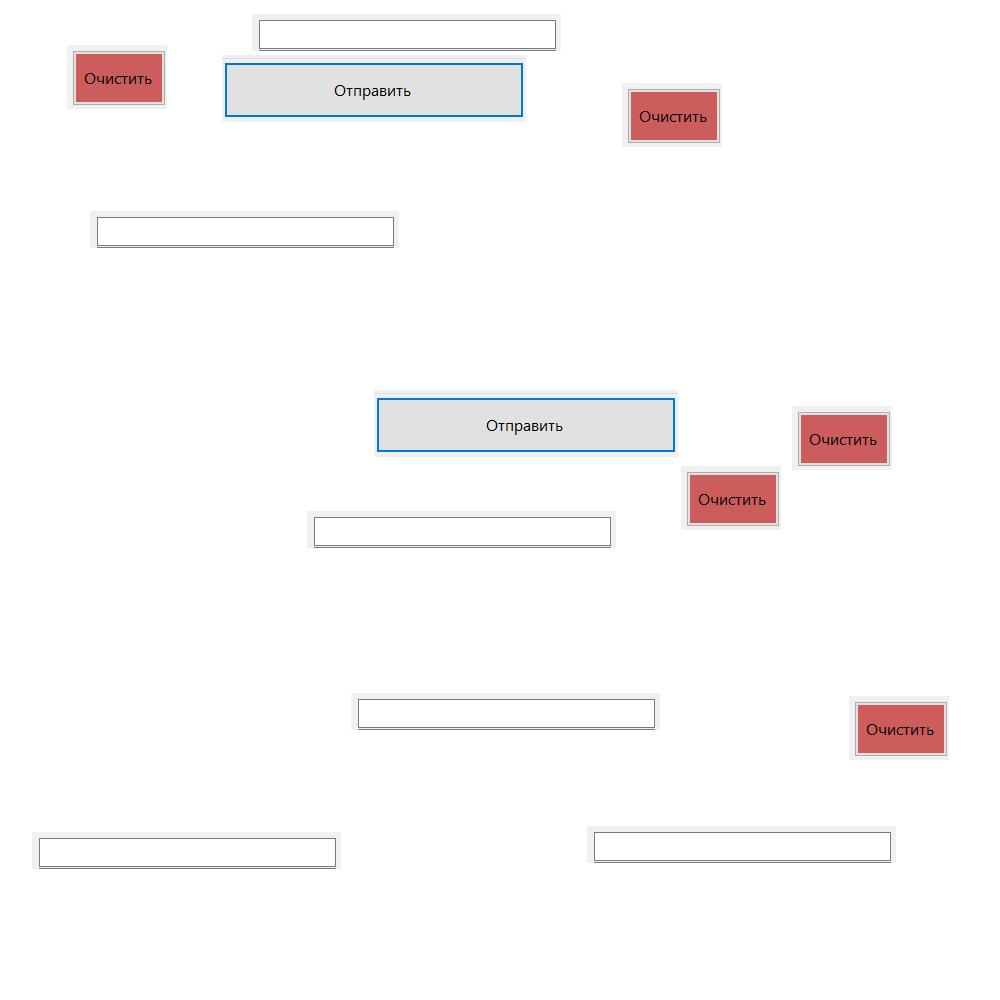Button: (222, 55, 526, 122), (374, 390, 678, 457), (792, 406, 892, 470), (849, 696, 949, 760), (622, 83, 722, 147), (67, 45, 167, 109), (681, 466, 781, 530)
EditText-: (587, 826, 896, 863), (90, 211, 399, 248), (351, 693, 660, 730), (307, 511, 616, 548), (252, 14, 561, 51), (32, 832, 341, 869)
